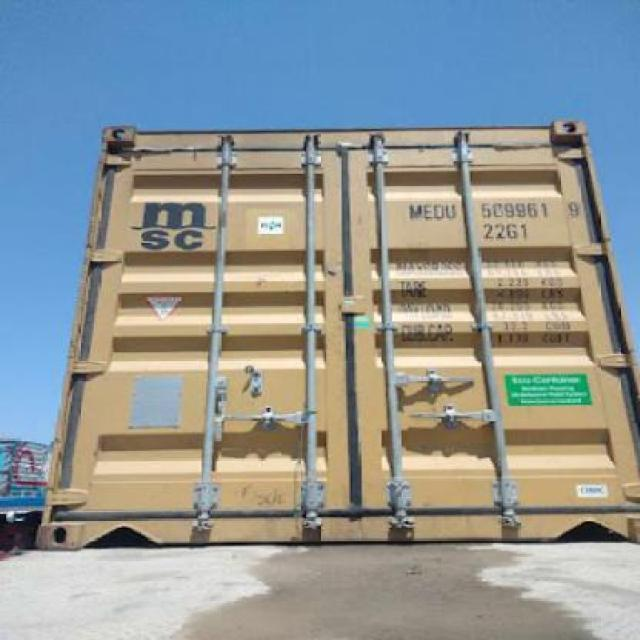ISO: (484, 224, 526, 242)
container_number: (413, 198, 589, 221)
